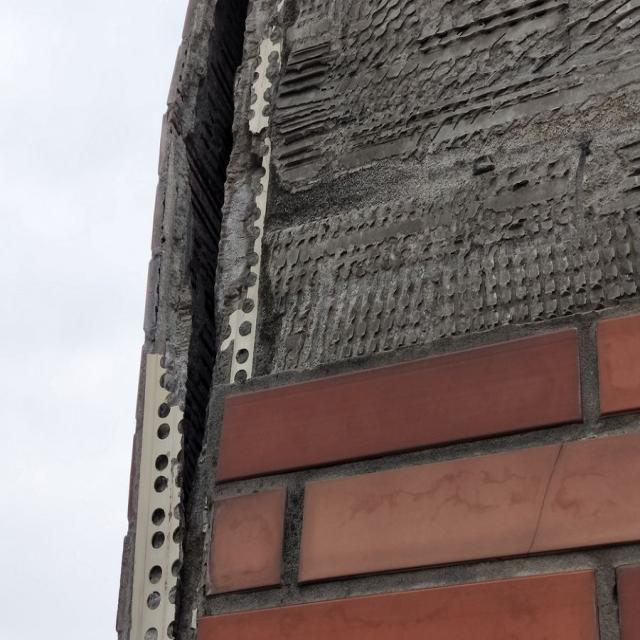tile: (228, 0, 640, 393)
